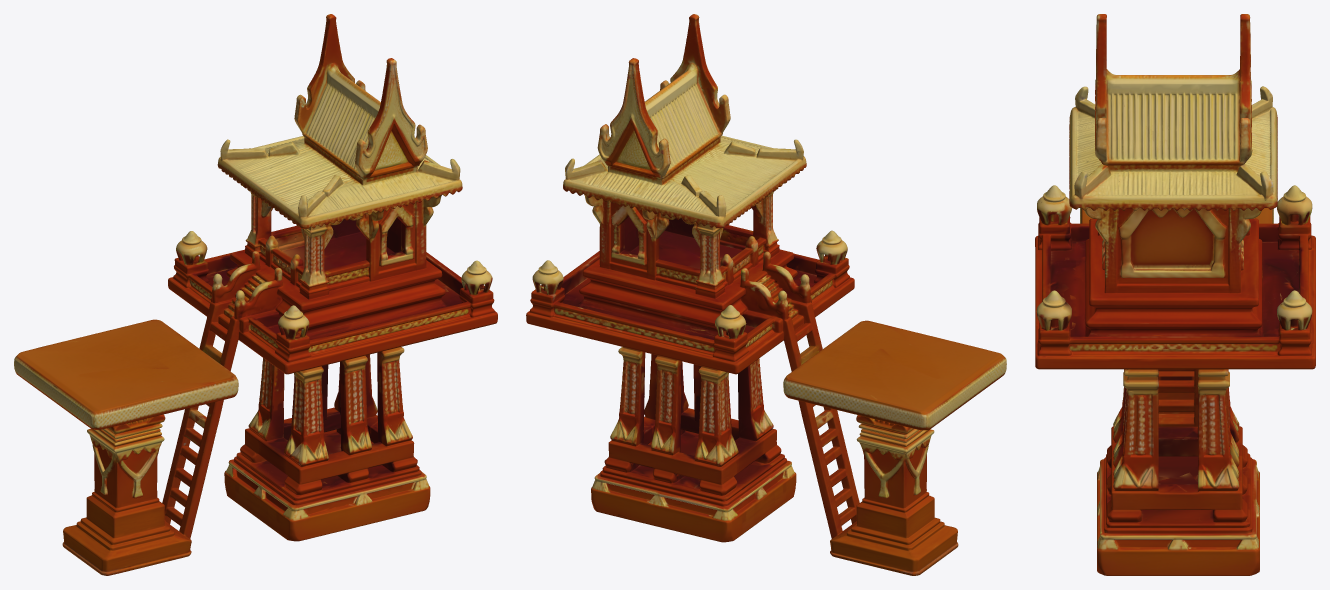
3 views of the same model, side by side, from view 1: azimuth 30°, elevation 25°; view 2: azimuth 150°, elevation 25°; view 3: azimuth 270°, elevation 25° (orthographic). The views are drawn at different scales.
Visible parts, largest first — view 1: texture_pbr_v128; view 2: texture_pbr_v128; view 3: texture_pbr_v128.
Part boxes in pixels (box(x1,y1,x2,y2)): texture_pbr_v128: box(14, 14, 497, 575); texture_pbr_v128: box(526, 14, 1006, 575); texture_pbr_v128: box(1035, 14, 1315, 575).
Bounding box in the file's own units: 0.844 × 0.9554 × 0.4509.
Materials: 1 (1 with a texture image).
